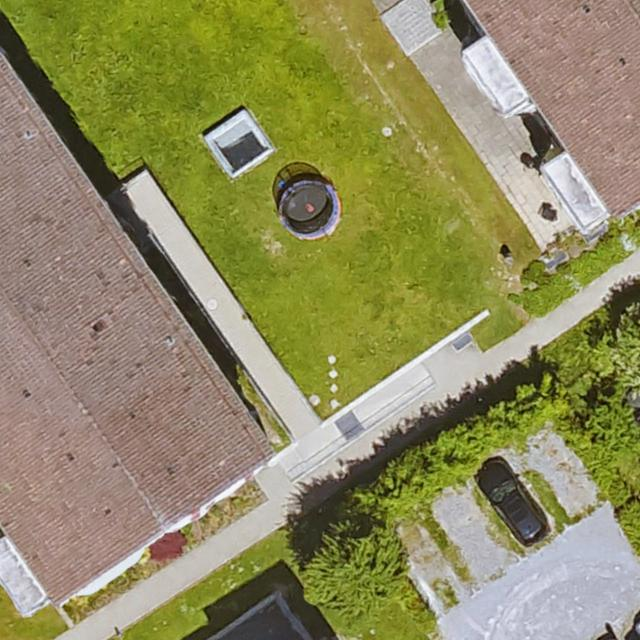tree: (305, 521, 411, 618), (577, 383, 640, 451), (604, 293, 640, 353)
